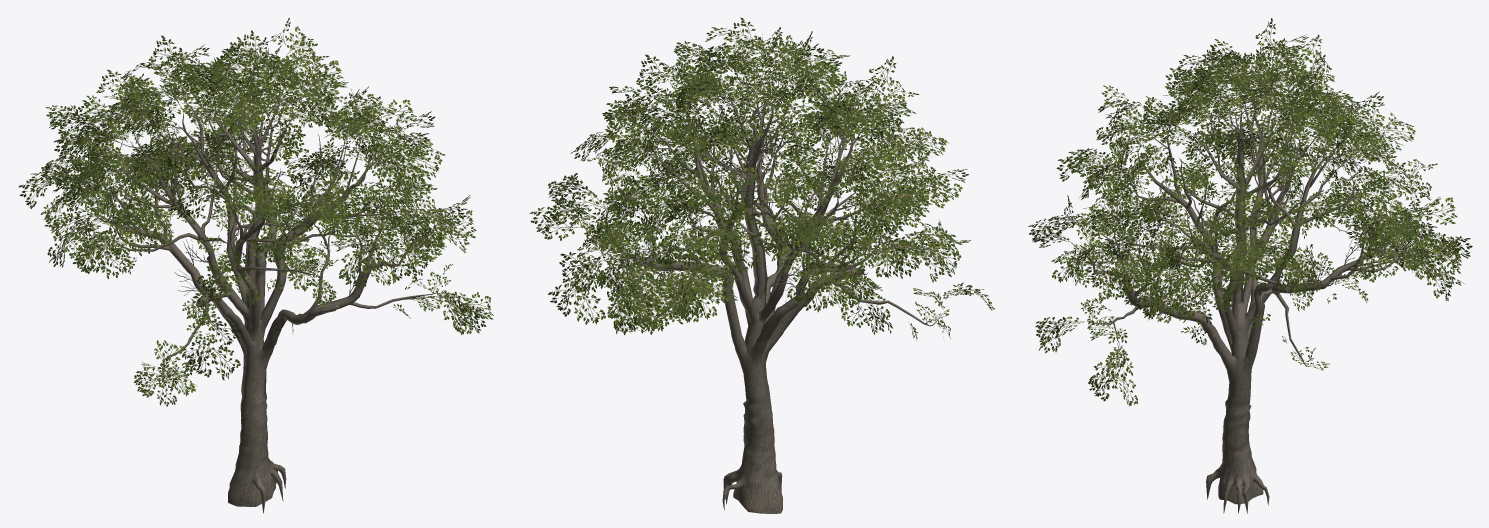
The model's file is oak-raised-green.gltf.
3 renders of one model, left to right at view 1: azimuth 30°, elevation 25°; view 2: azimuth 150°, elevation 25°; view 3: azimuth 270°, elevation 25°, orthographic. The views are drawn at different scales.
Parts seen in each view (by area): view 1: White oak raised crown green; view 2: White oak raised crown green; view 3: White oak raised crown green.
Boxes of the visible parts, x1,y1,x2,y2 form: White oak raised crown green: [18, 17, 493, 513]; White oak raised crown green: [529, 17, 995, 513]; White oak raised crown green: [1028, 18, 1472, 513].
Size of the model in its own units: 1014 by 1182 by 1086.
4 materials, 4 textured.
